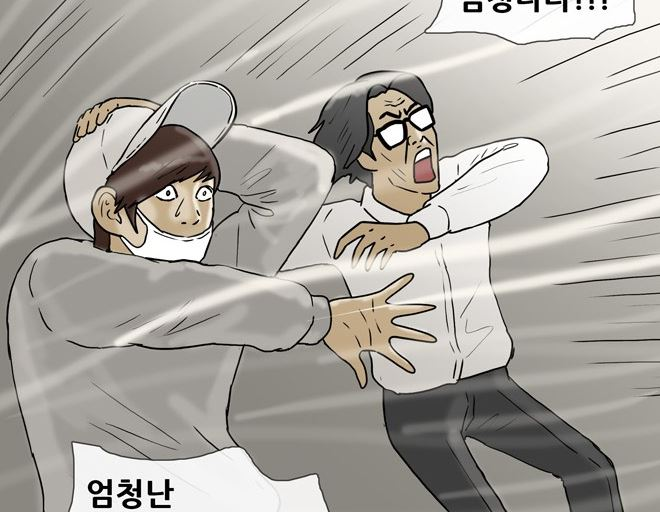hat: (49, 80, 233, 230)
